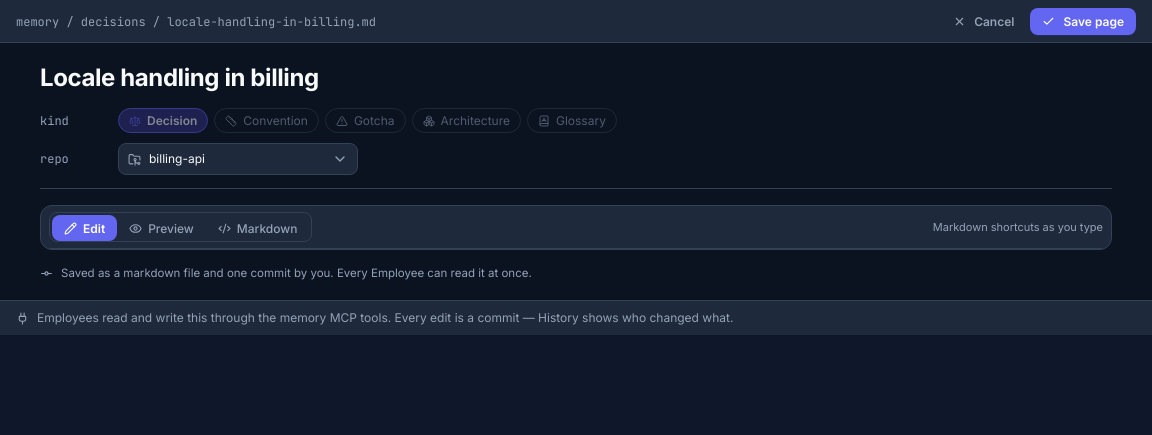
Test: writing a new page › previews the body with the reading pane’s own renderer, not a second one
Click the button "Preview".
click(161, 228)  # box [117,215,206,241]
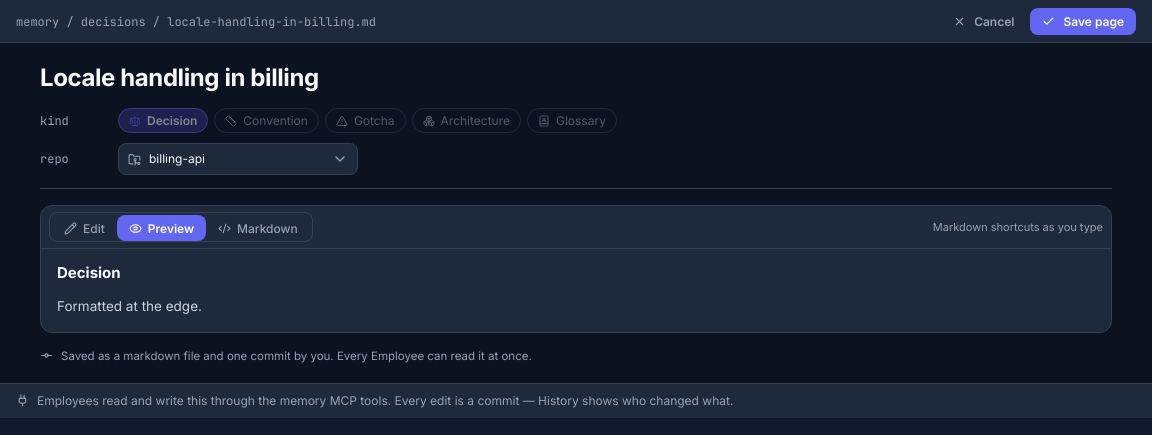
expect the heading "Decision" is shown: met, box [57,263,121,282]
expect the element with class "memory-editor__preview" shows "Formatted at the edge.": met, box [57,298,202,314]
